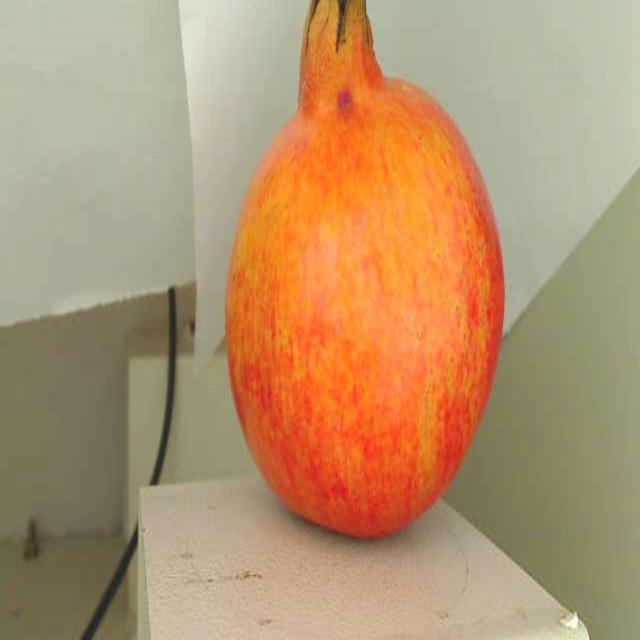pomegranate: (217, 0, 518, 586)
